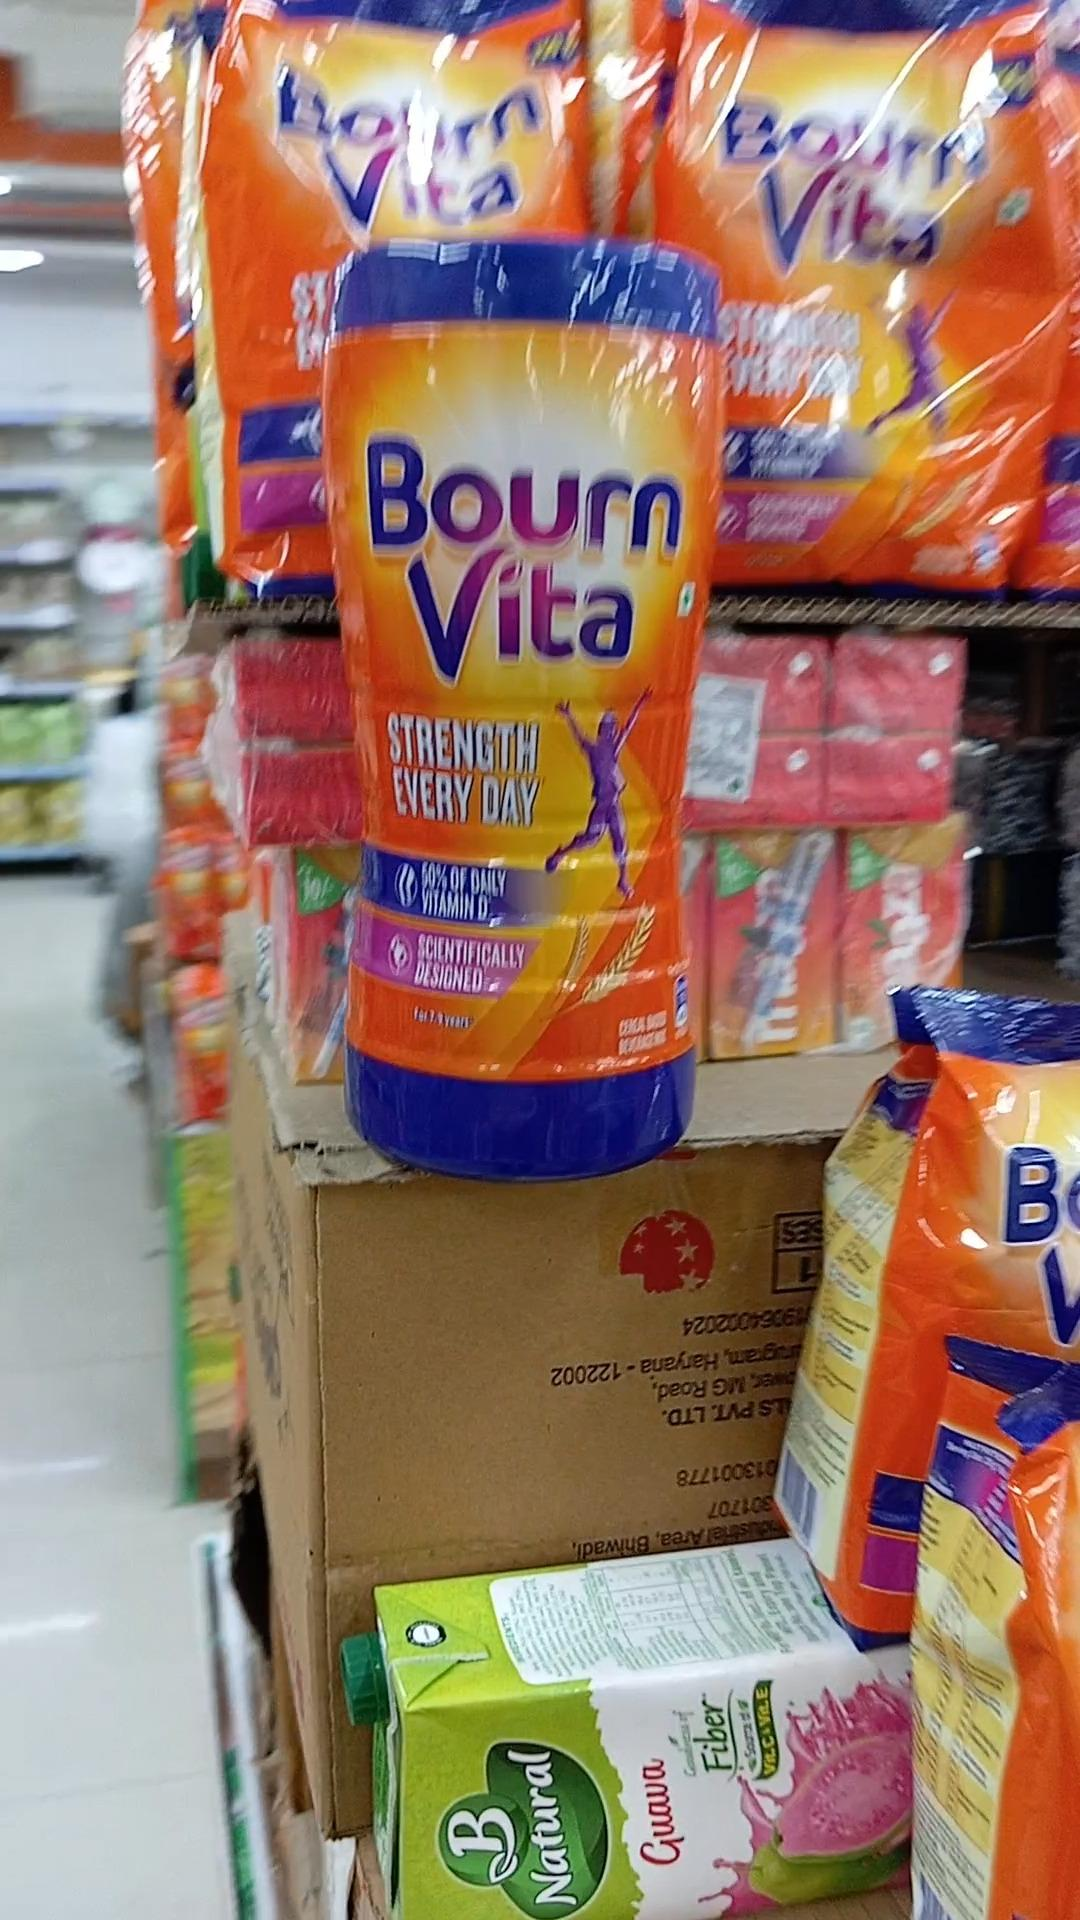BOURN_VITA_1_KG_JAR: (332, 235, 708, 1184)
